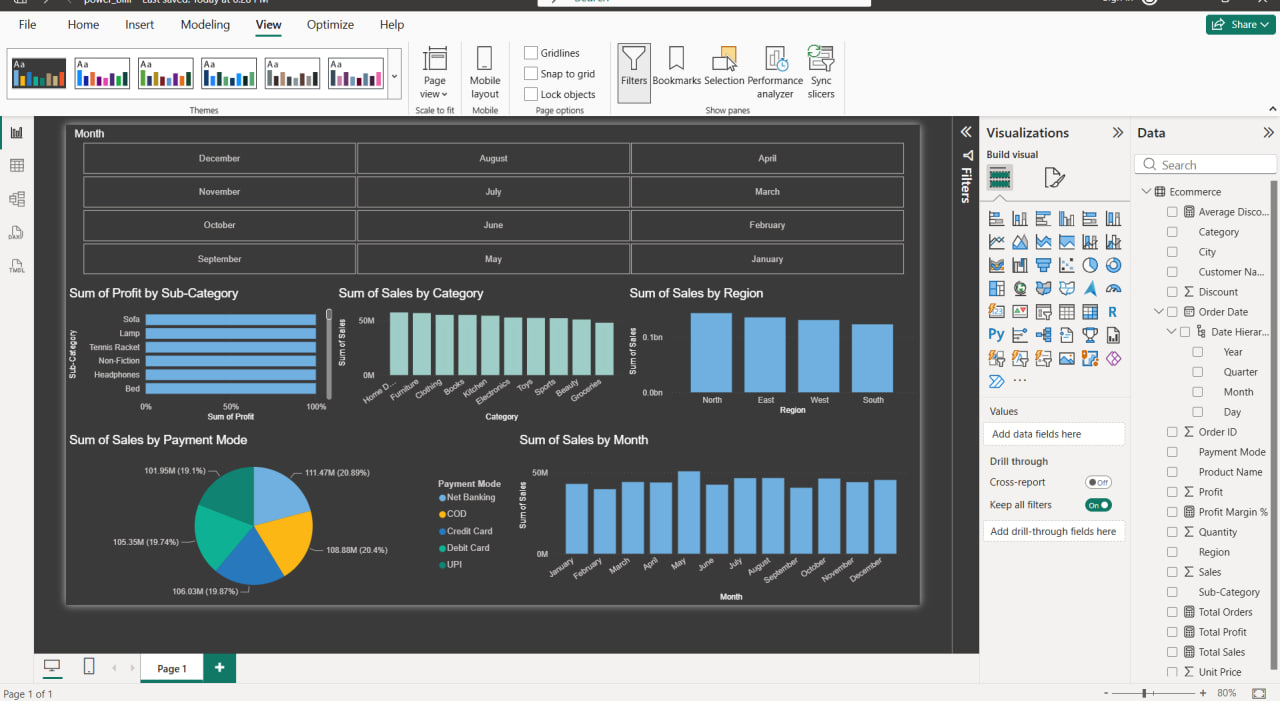

The page's visual inventory and layout, read from the dashboard file:
{"tool":"powerbi","page":{"name":"Page 1","canvas":[1280,720],"ordinal":0},"visuals":[{"type":"cardVisual","fields":{"Data":["Ecommerce.Total Orders"]},"box":[403.8,440,280,280],"z":0},{"type":"cardVisual","fields":{"Data":["Ecommerce.Profit Margin %"]},"box":[0,440,280,280],"z":1000},{"type":"cardVisual","fields":{"Data":["Ecommerce.Average Discount"]},"box":[0,206,280,280],"z":2000},{"type":"cardVisual","fields":{"Data":["Ecommerce.Total Sales"]},"box":[473.8,440,280,280],"z":3000},{"type":"cardVisual","fields":{"Data":["Ecommerce.Total Profit"]},"box":[447.5,440,280,280],"z":4000},{"type":"clusteredColumnChart","fields":{"Category":["Ecommerce.Category"],"Y":["Sum(Ecommerce.Sales)"]},"box":[403.8,242.5,436.2,207.5],"z":5000},{"type":"clusteredColumnChart","fields":{"Category":["Ecommerce.Order Date.Variation.Date Hierarchy.Month"],"Y":["Sum(Ecommerce.Sales)"]},"box":[675,462.5,592.5,257.5],"z":6000},{"type":"pieChart","fields":{"Category":["Ecommerce.Payment Mode"],"Y":["Sum(Ecommerce.Sales)"]},"box":[0,462.5,675,257.5],"z":7000},{"type":"clusteredColumnChart","fields":{"Category":["Ecommerce.Region"],"Y":["Sum(Ecommerce.Sales)"]},"box":[840,242.5,440,197.5],"z":8000},{"type":"hundredPercentStackedBarChart","fields":{"Category":["Ecommerce.Sub-Category"],"Y":["Sum(Ecommerce.Profit)"]},"box":[0,242.5,403.8,207.5],"z":9000},{"type":"slicer","fields":{"Values":["Ecommerce.Order Date.Variation.Date Hierarchy.Month"]},"box":[0,0,1280,231.2],"z":9001}]}

Visuals, with their boxes on the page's 1280x720 design canvas (x1, y1, x2, y2). These are canvas units, not pixel positions in the 1280x701 screenshot, which may show the page scaled, cropped or inside an application window:
cardVisual - Ecommerce.Total Orders: l=404, t=440, r=684, b=720
cardVisual - Ecommerce.Profit Margin %: l=0, t=440, r=280, b=720
cardVisual - Ecommerce.Average Discount: l=0, t=206, r=280, b=486
cardVisual - Ecommerce.Total Sales: l=474, t=440, r=754, b=720
cardVisual - Ecommerce.Total Profit: l=448, t=440, r=728, b=720
clusteredColumnChart - Ecommerce.Category x Sum(Ecommerce.Sales): l=404, t=242, r=840, b=450
clusteredColumnChart - Ecommerce.Order Date.Variation.Date Hierarchy.Month x Sum(Ecommerce.Sales): l=675, t=462, r=1268, b=720
pieChart - Ecommerce.Payment Mode x Sum(Ecommerce.Sales): l=0, t=462, r=675, b=720
clusteredColumnChart - Ecommerce.Region x Sum(Ecommerce.Sales): l=840, t=242, r=1280, b=440
hundredPercentStackedBarChart - Ecommerce.Sub-Category x Sum(Ecommerce.Profit): l=0, t=242, r=404, b=450
slicer - Ecommerce.Order Date.Variation.Date Hierarchy.Month: l=0, t=0, r=1280, b=231
